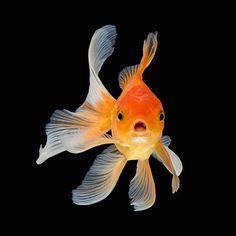goldfish: (56, 46, 202, 193)
